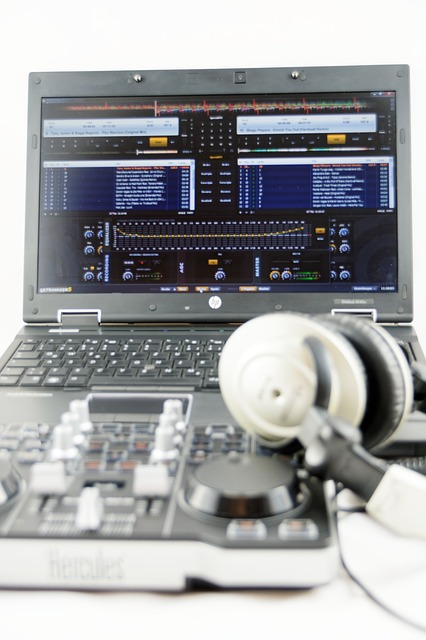headphones: (219, 314, 426, 540)
